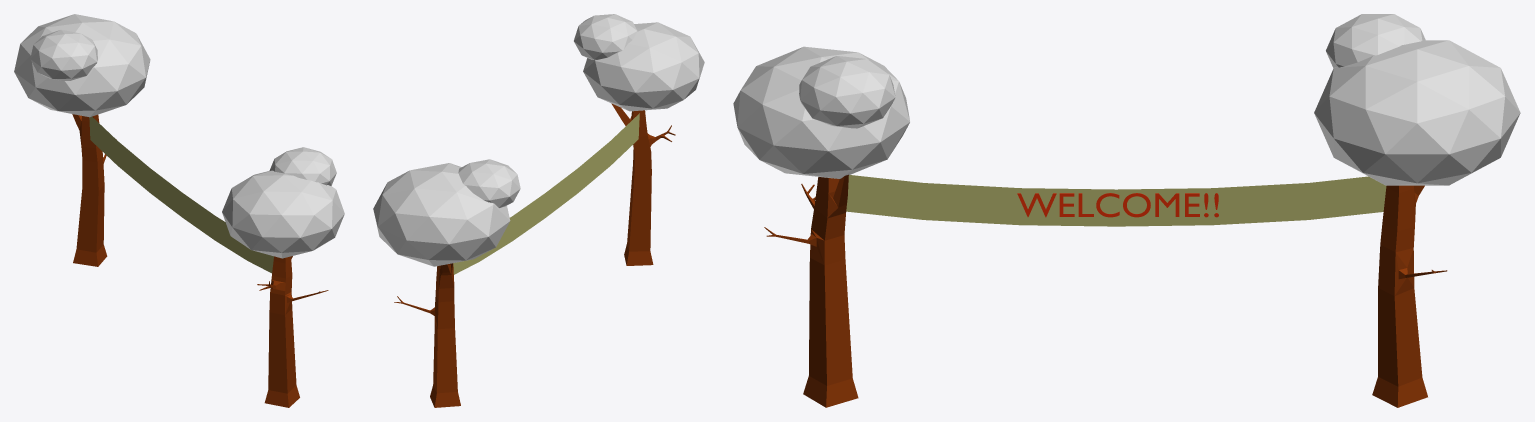
Rendered from AN_3D_WelcomeBanner_TEMPTEXTURES.fbx.
3 views of the same model, side by side, from view 1: azimuth 30°, elevation 25°; view 2: azimuth 150°, elevation 25°; view 3: azimuth 270°, elevation 25° (orthographic). The views are drawn at different scales.
Visible parts, largest first — view 1: AN_3D_WelcomeBanner_TEMPTEXTURES; view 2: AN_3D_WelcomeBanner_TEMPTEXTURES; view 3: AN_3D_WelcomeBanner_TEMPTEXTURES.
Boxes of the visible parts, bbox=[...] form: AN_3D_WelcomeBanner_TEMPTEXTURES: bbox=[14, 14, 344, 407]; AN_3D_WelcomeBanner_TEMPTEXTURES: bbox=[373, 14, 704, 407]; AN_3D_WelcomeBanner_TEMPTEXTURES: bbox=[733, 14, 1520, 407].
Size of the model in its own units: 980 by 1907 by 3846.
Materials: 4 (1 with a texture image).
